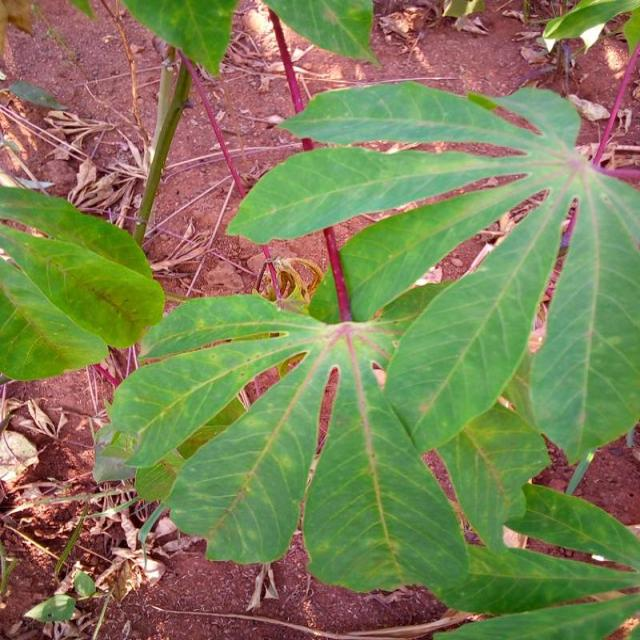cassava leaf: (104, 78, 638, 631), (0, 182, 165, 382)
